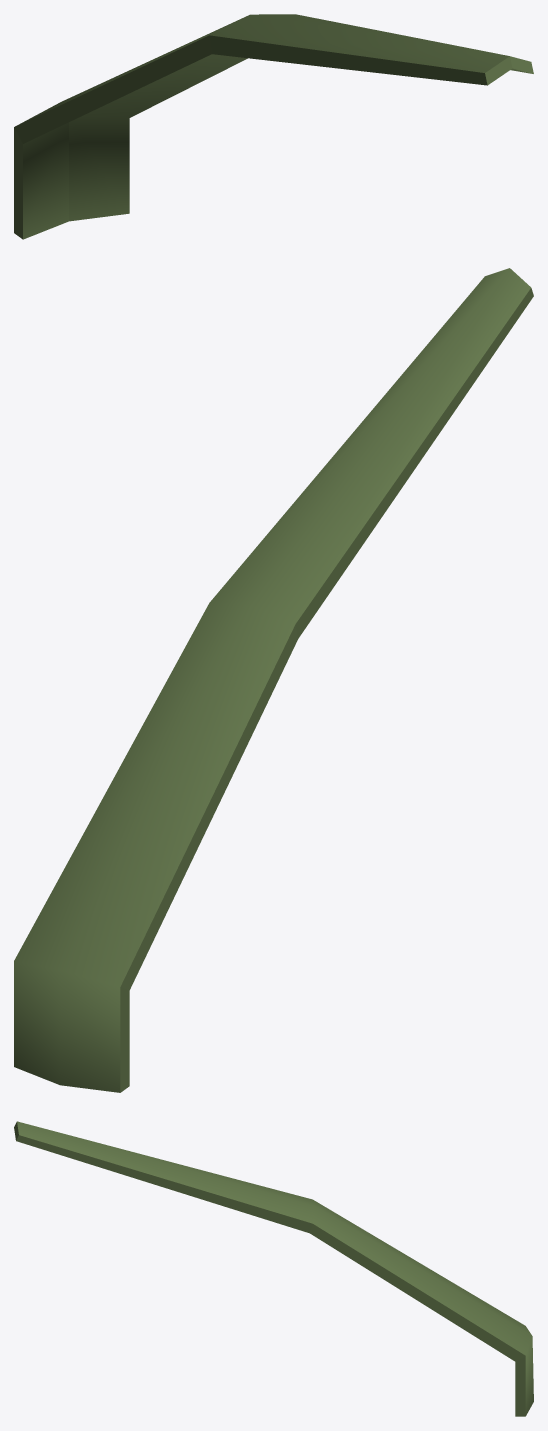
File: SM_Grass_Blade_07.fbx
3 renders of one model, top to bottom at view 1: azimuth 30°, elevation 25°; view 2: azimuth 150°, elevation 25°; view 3: azimuth 270°, elevation 25°, orthographic. The views are drawn at different scales.
Visible parts, largest first — view 1: SM_Grass_Blade_07; view 2: SM_Grass_Blade_07; view 3: SM_Grass_Blade_07.
Boxes of the visible parts, x1,y1,x2,y2 form: SM_Grass_Blade_07: (14, 14, 533, 239); SM_Grass_Blade_07: (14, 268, 533, 1092); SM_Grass_Blade_07: (14, 1121, 533, 1416).
Size of the model in its own units: 15.44 by 67.64 by 114.
